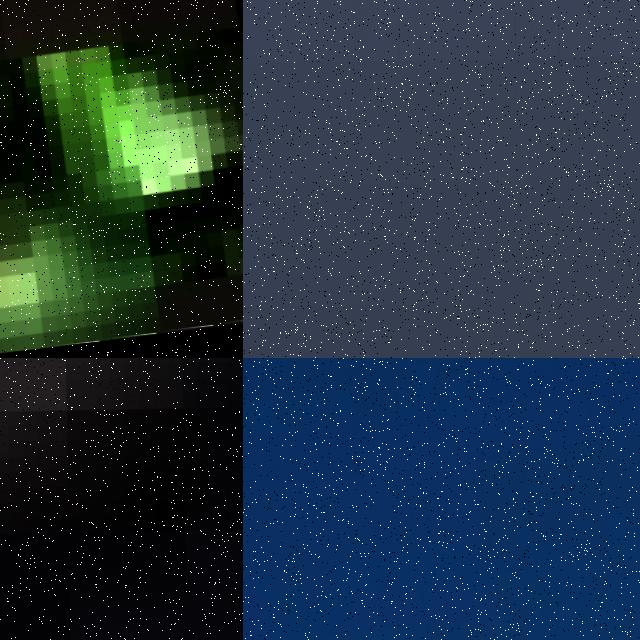0: (0, 0, 243, 358)
drone: (243, 358, 640, 640)
